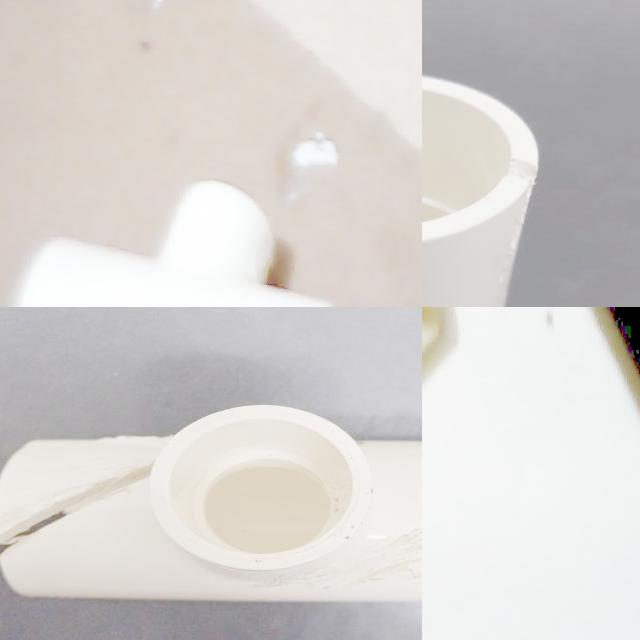Defective: (0, 455, 169, 548), (380, 473, 422, 625), (506, 160, 534, 195)
T Joint: (0, 408, 422, 606), (5, 182, 334, 307)
